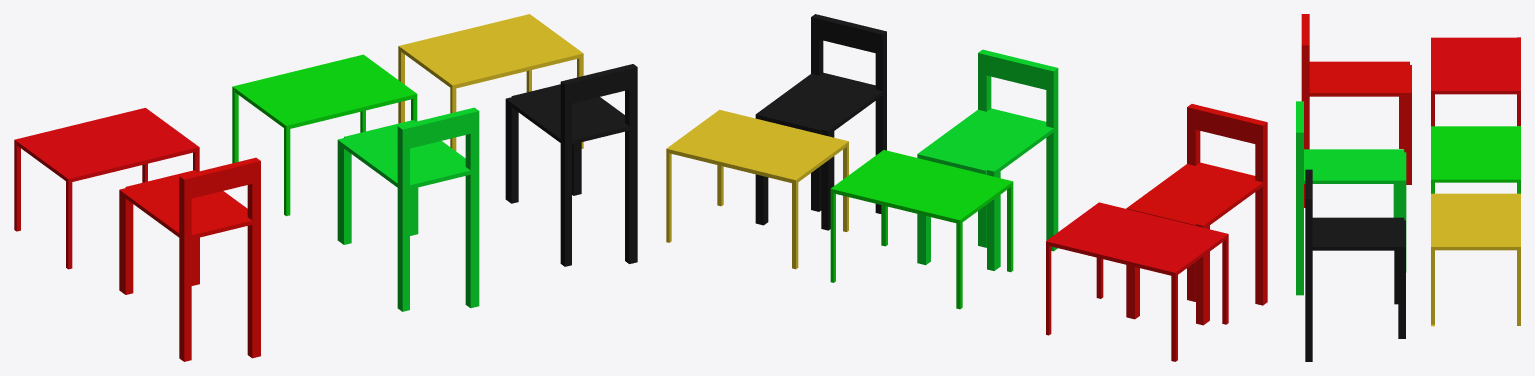
The model's file is kursi.glb.
3 renders of one model, left to right at view 1: azimuth 30°, elevation 25°; view 2: azimuth 150°, elevation 25°; view 3: azimuth 270°, elevation 25°, orthographic. The views are drawn at different scales.
Visible parts, largest first — view 1: Cube.001, Cube.002, Cube.004, Cube.003, Cube, Cube.005; view 2: Cube.001, Cube.002, Cube.004, Cube.003, Cube, Cube.005; view 3: Cube.005, Cube.002, Cube.004, Cube.001, Cube.003, Cube.
Boxes of the visible parts, left/top/right/bottom form: Cube.001: left=337, top=107, right=479, bottom=311; Cube.002: left=119, top=157, right=260, bottom=361; Cube.004: left=505, top=64, right=637, bottom=266; Cube.003: left=14, top=108, right=199, bottom=269; Cube: left=232, top=54, right=417, bottom=216; Cube.005: left=398, top=14, right=583, bottom=150; Cube.001: left=917, top=49, right=1058, bottom=270; Cube.002: left=1126, top=104, right=1267, bottom=325; Cube.004: left=755, top=14, right=886, bottom=230; Cube.003: left=1046, top=202, right=1228, bottom=361; Cube: left=830, top=150, right=1013, bottom=309; Cube.005: left=666, top=109, right=848, bottom=269; Cube.005: left=1431, top=193, right=1520, bottom=326; Cube.002: left=1301, top=14, right=1411, bottom=207; Cube.004: left=1305, top=169, right=1405, bottom=361; Cube.001: left=1296, top=101, right=1406, bottom=295; Cube.003: left=1431, top=37, right=1520, bottom=126; Cube: left=1431, top=126, right=1520, bottom=193.
Bounding box in the file's own units: 62.57 × 22.65 × 28.35.
